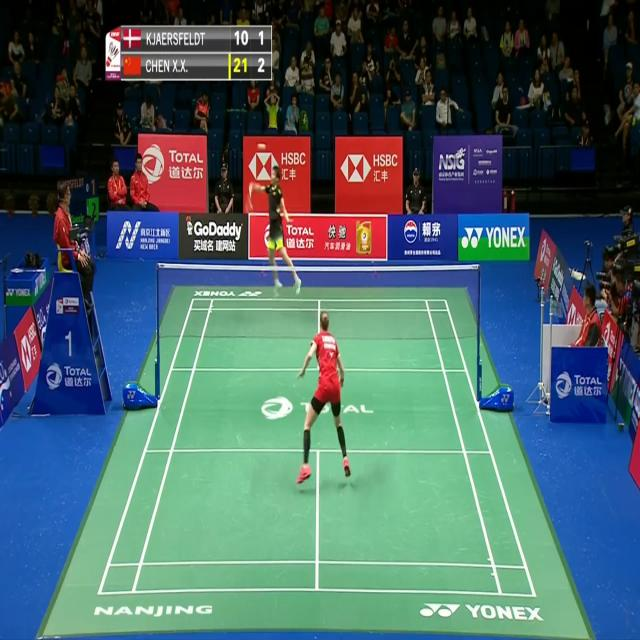Player1: (293, 305, 359, 496)
Player2: (248, 159, 306, 296)
